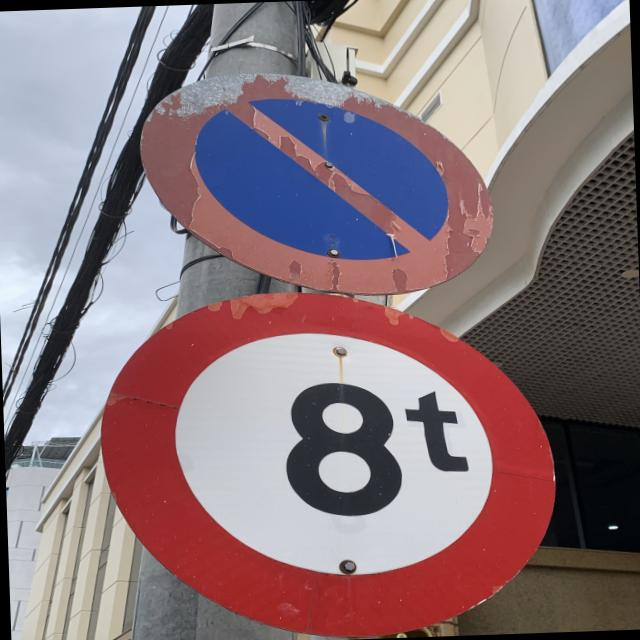Cam_Dau_Xe: (136, 78, 497, 292)
